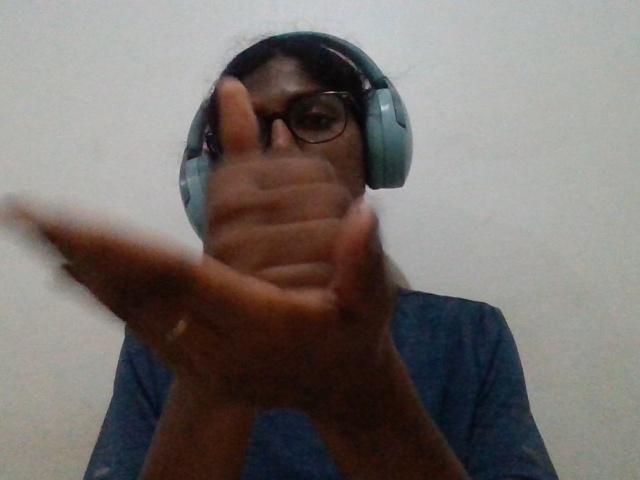Help: (1, 61, 478, 467)
